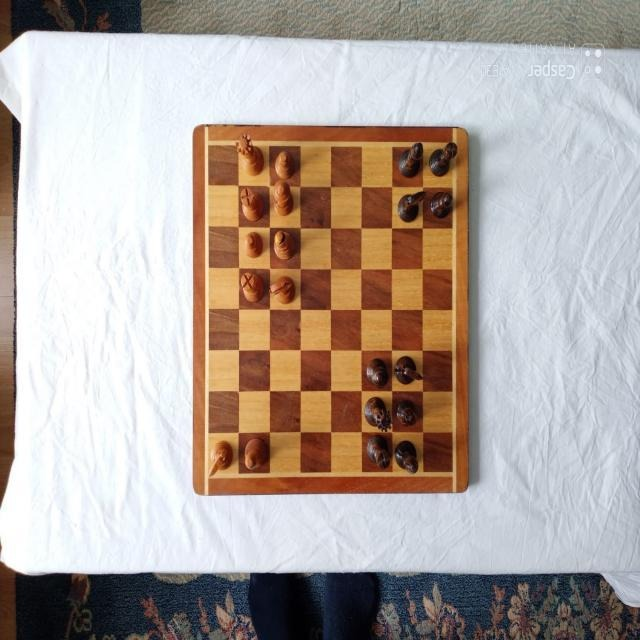black-bishop: (398, 142, 423, 178), (394, 440, 419, 475)
black-king: (366, 358, 389, 388)
black-knight: (397, 190, 426, 222), (395, 355, 423, 385)
black-pawn: (431, 190, 453, 218), (397, 398, 417, 426)
black-queen: (364, 396, 394, 431)
black-rook: (430, 142, 458, 178), (366, 434, 390, 470)
white-bishop: (244, 438, 268, 470), (273, 231, 295, 259)
white-king: (274, 180, 294, 216)
white-knight: (208, 439, 233, 476), (269, 276, 295, 304)
white-pawn: (274, 150, 294, 179), (244, 230, 263, 257)
white-queen: (236, 131, 264, 176)
white-rook: (240, 187, 264, 221), (240, 272, 263, 303)
